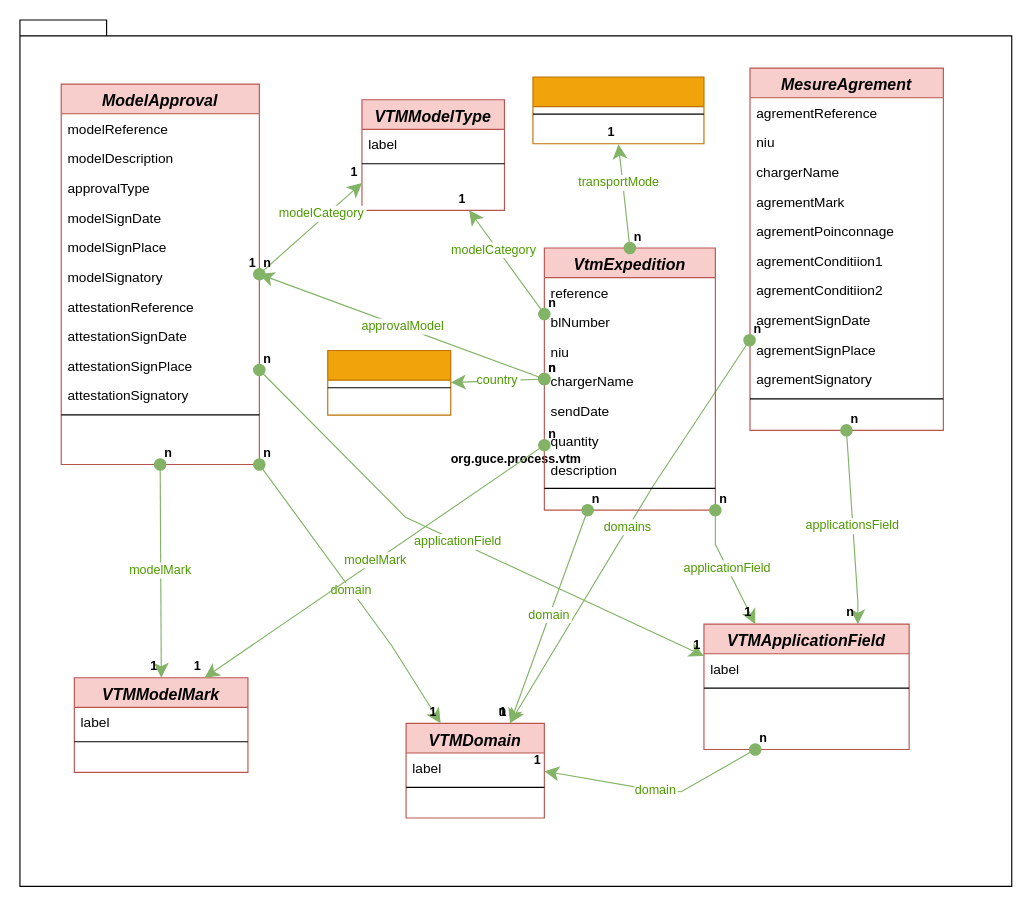
This 1032x906 diagram has some shape labels left out. Each missing label, with the centre of its shape:
CorePays: the point at 389,382
RepTransportMode: the point at 618,110
